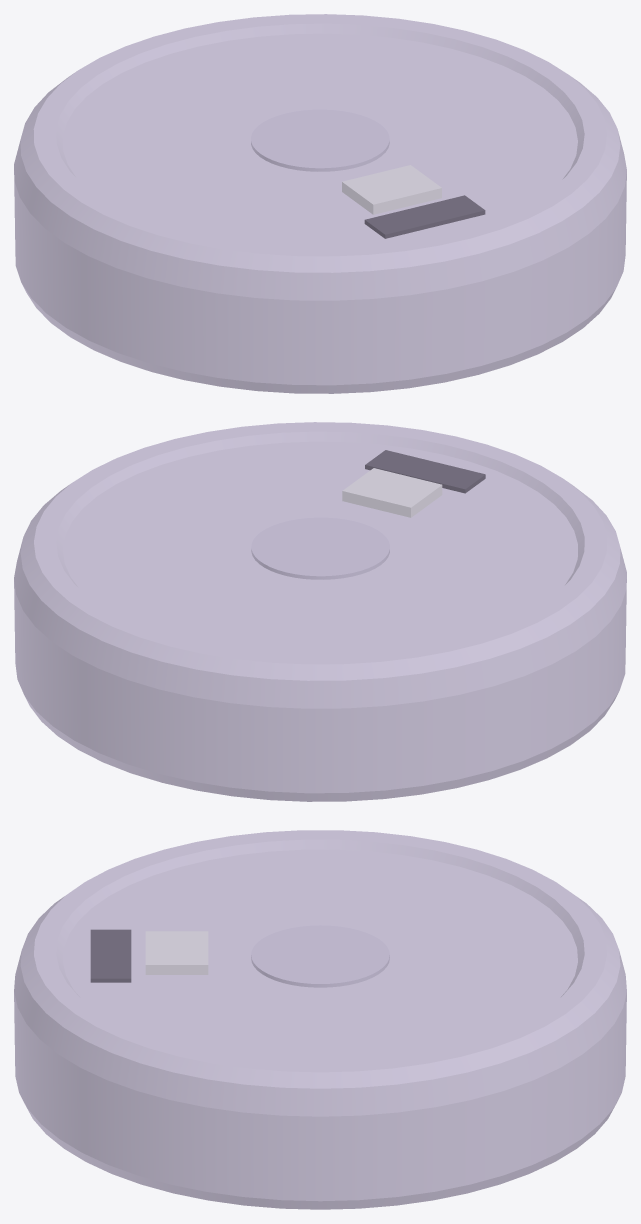
Rendered from lid.glb.
The picture shows the model from 3 angles, top to bottom: view 1: azimuth 30°, elevation 25°; view 2: azimuth 150°, elevation 25°; view 3: azimuth 270°, elevation 25°; orthographic projection.
Parts seen in each view (by area): view 1: lid_m0; view 2: lid_m0; view 3: lid_m0.
Part boxes in pixels (box(x1,y1,x2,y2)): lid_m0: box(14, 14, 626, 393); lid_m0: box(14, 422, 626, 801); lid_m0: box(14, 830, 626, 1209).
Bounding box in the file's own units: 0.0927 × 0.0225 × 0.0928.
